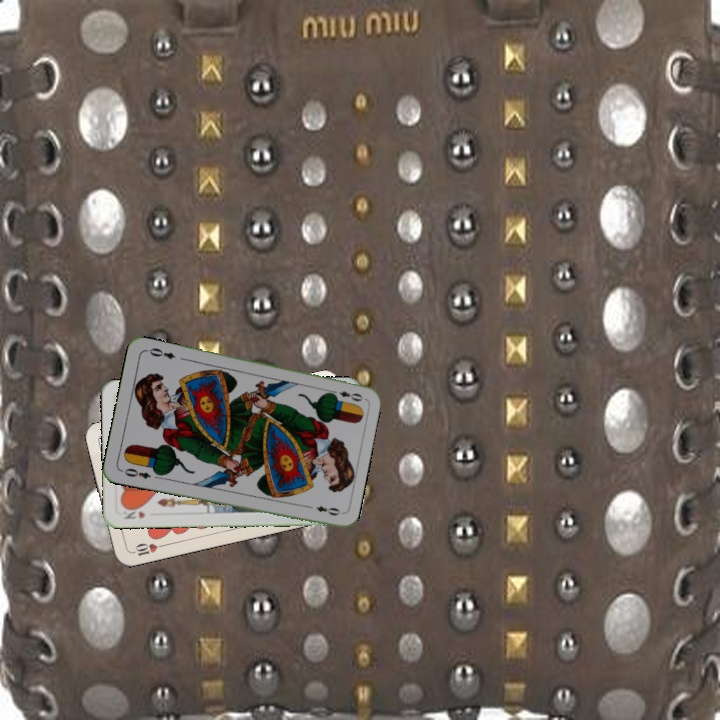EO: (326, 386, 365, 404), (117, 464, 153, 482)
H10: (127, 539, 167, 559)
HK: (118, 503, 148, 522)
